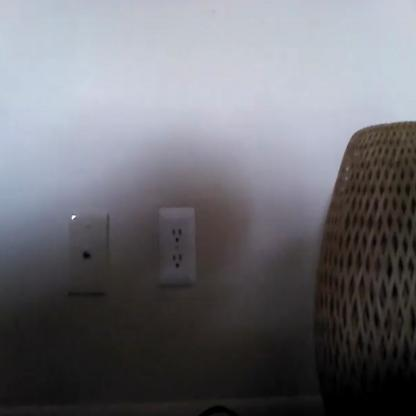OUTLET: (158, 207, 198, 286)
